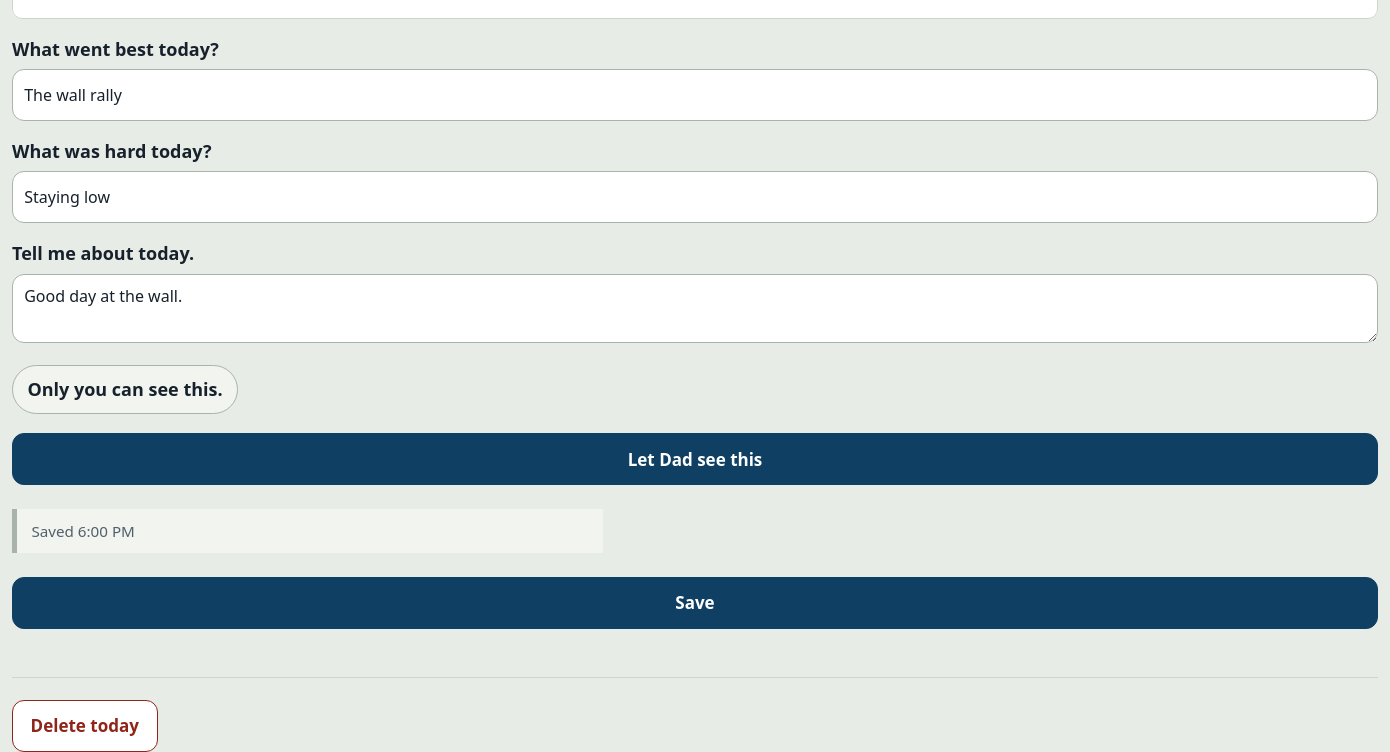
Test: the athlete journal › deleting what he wrote › asks before it does anything
(page scrolled)
Click the button "Delete today": {"x": 85, "y": 726} [12,700,158,751]
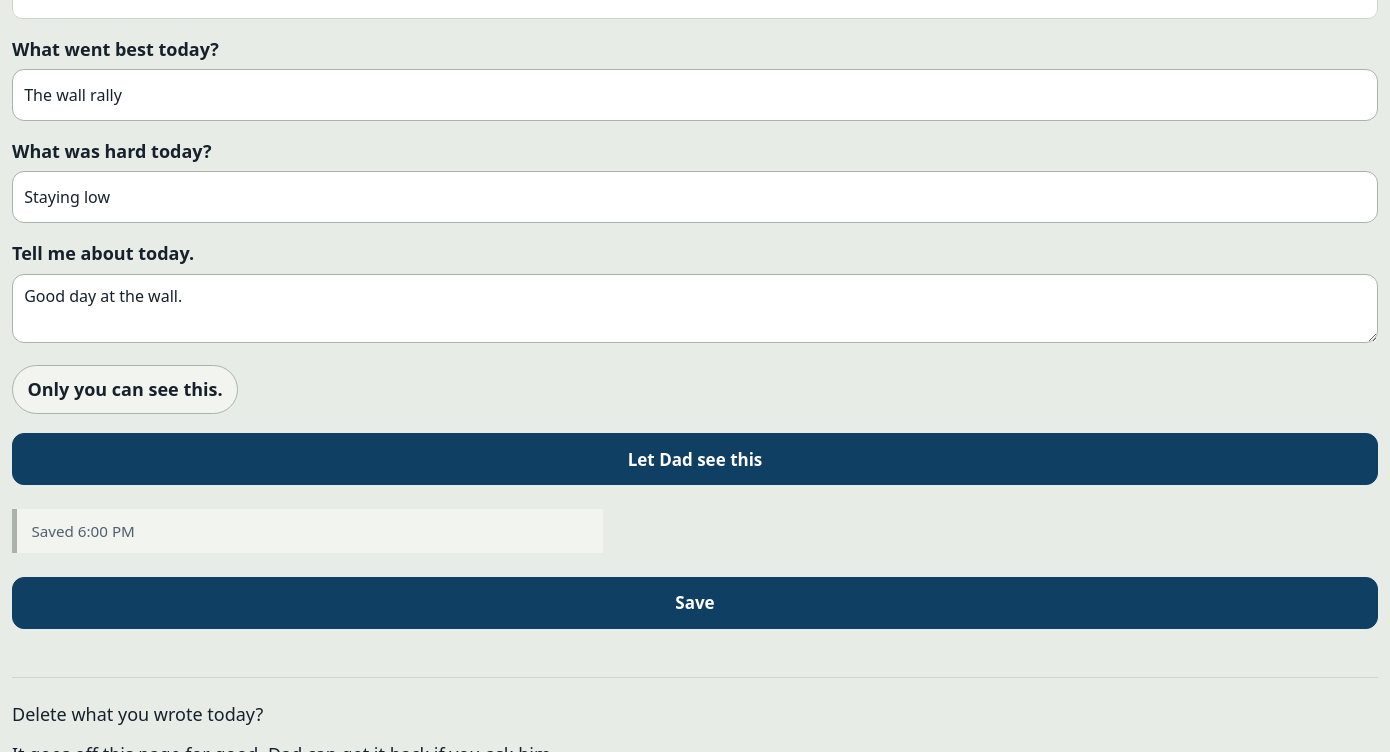
Expected: the field labelled "What went best today?" holds "The wall rally", [12,69,1378,121]
Expected: the text "Delete what you wrote today?" is shown, [12,700,263,729]
